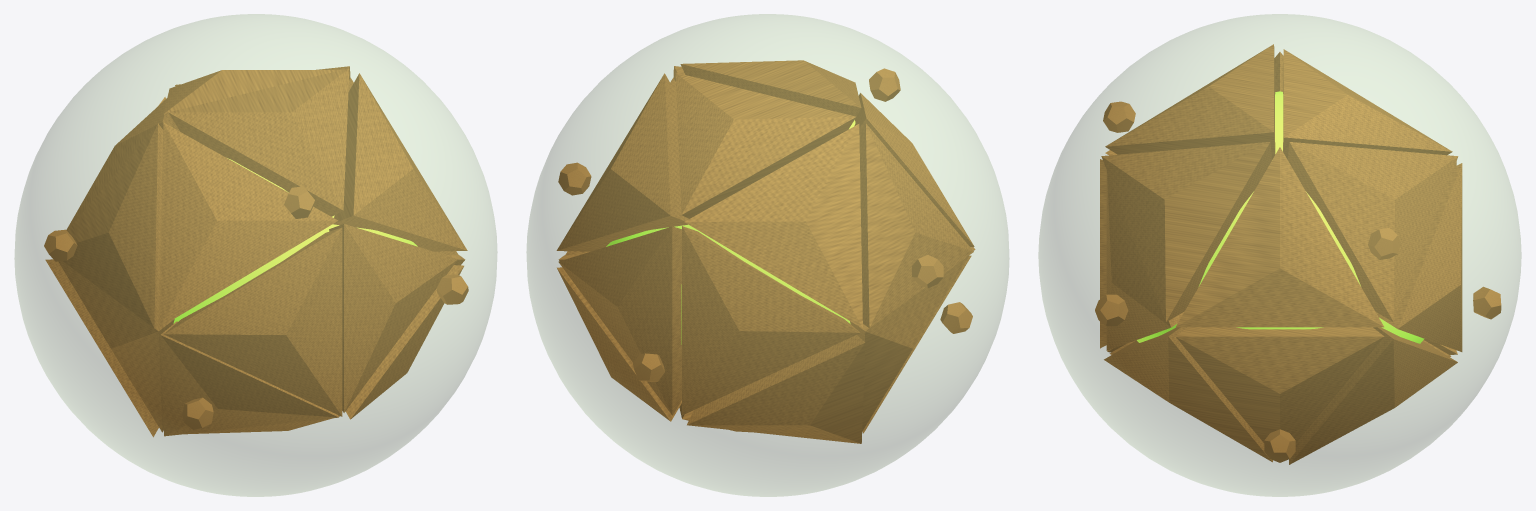
The model's file is earth_orb.glb.
The picture shows the model from 3 angles, left to right: view 1: azimuth 30°, elevation 25°; view 2: azimuth 150°, elevation 25°; view 3: azimuth 270°, elevation 25°; orthographic projection.
Visible parts, largest first — view 1: earth thin polished glass skin, Earth brown weathered mineral rock, earth sculpted elemental flow; view 2: earth thin polished glass skin, Earth brown weathered mineral rock, earth sculpted elemental flow; view 3: earth thin polished glass skin, Earth brown weathered mineral rock, earth sculpted elemental flow.
Part boxes in pixels (x1,y1,x2,y2): earth thin polished glass skin: (14, 14, 497, 496); Earth brown weathered mineral rock: (44, 66, 468, 437); earth sculpted elemental flow: (173, 158, 417, 323); earth thin polished glass skin: (526, 14, 1009, 496); Earth brown weathered mineral rock: (556, 60, 975, 443); earth sculpted elemental flow: (606, 120, 855, 344); earth thin polished glass skin: (1038, 14, 1521, 496); Earth brown weathered mineral rock: (1095, 44, 1501, 464); earth sculpted elemental flow: (1137, 91, 1424, 343).
Size of the model in its own units: 0.15 by 0.15 by 0.15.
Materials: 3 (1 with a texture image).
